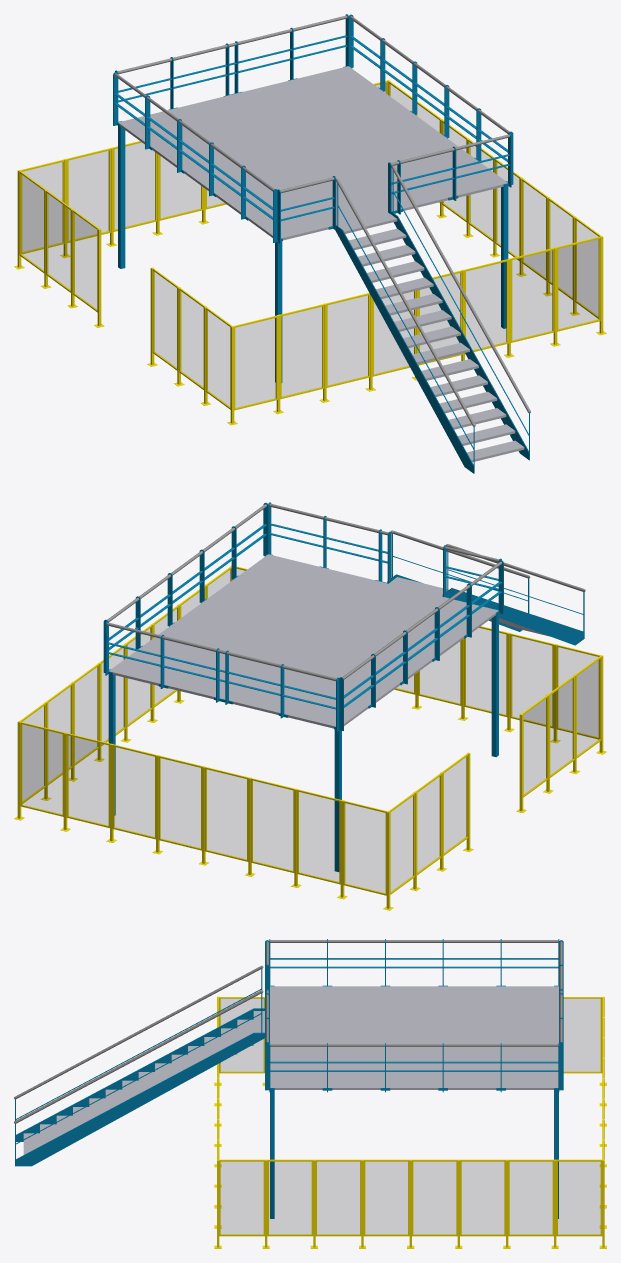
File: industrial-scene.glb
The picture shows the model from 3 angles, top to bottom: view 1: azimuth 30°, elevation 25°; view 2: azimuth 150°, elevation 25°; view 3: azimuth 270°, elevation 25°; orthographic projection. The views are drawn at different scales.
Parts seen in each view (by area): view 1: deco; view 2: deco; view 3: deco.
Part boxes in pixels (x1=…): deco: x1=14, y1=14, x2=606, y2=473; deco: x1=14, y1=502, x2=606, y2=910; deco: x1=14, y1=939, x2=606, y2=1248.
Size of the model in its own units: 8.15 by 4.05 by 12.31.
